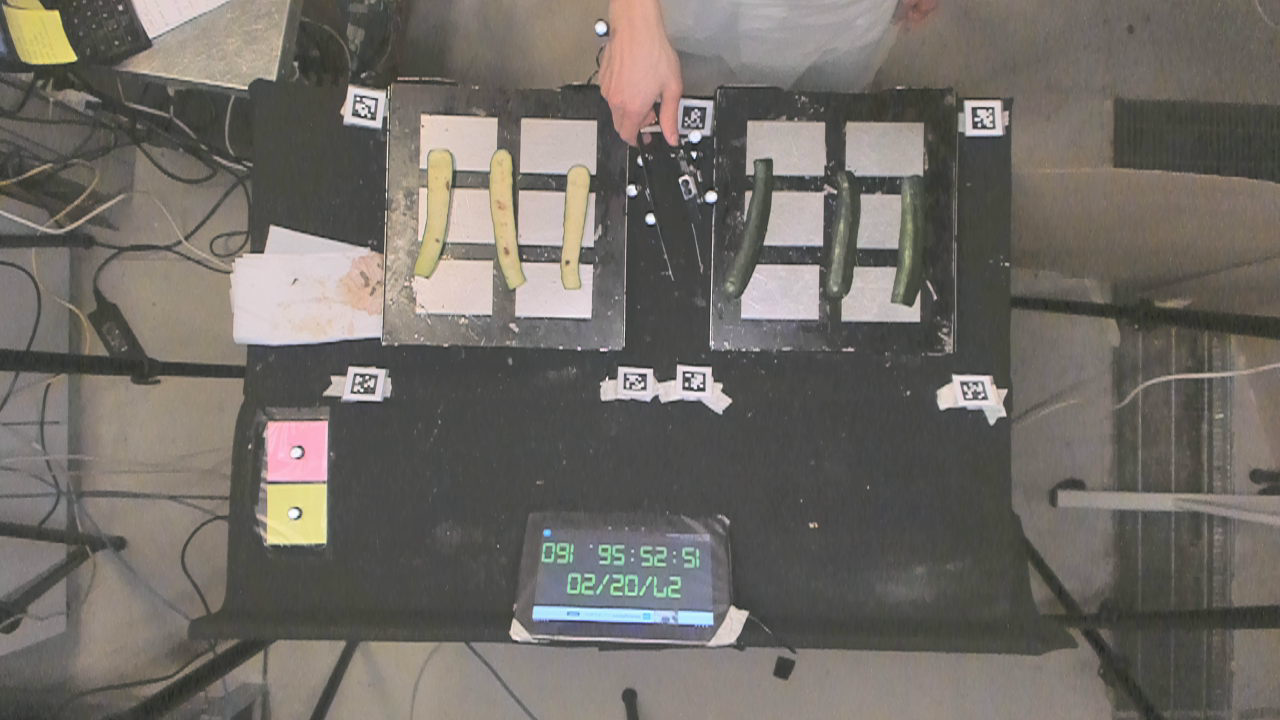marker: (268, 419, 328, 483)
zucchini: (720, 150, 776, 311), (487, 148, 528, 293), (555, 161, 594, 296), (417, 143, 454, 284), (893, 173, 929, 309), (826, 166, 857, 307)
